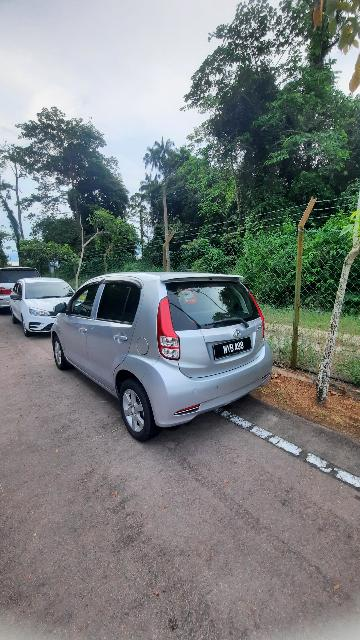License_Plate: (208, 337, 257, 361)
car: (50, 270, 278, 445), (10, 271, 81, 339)
